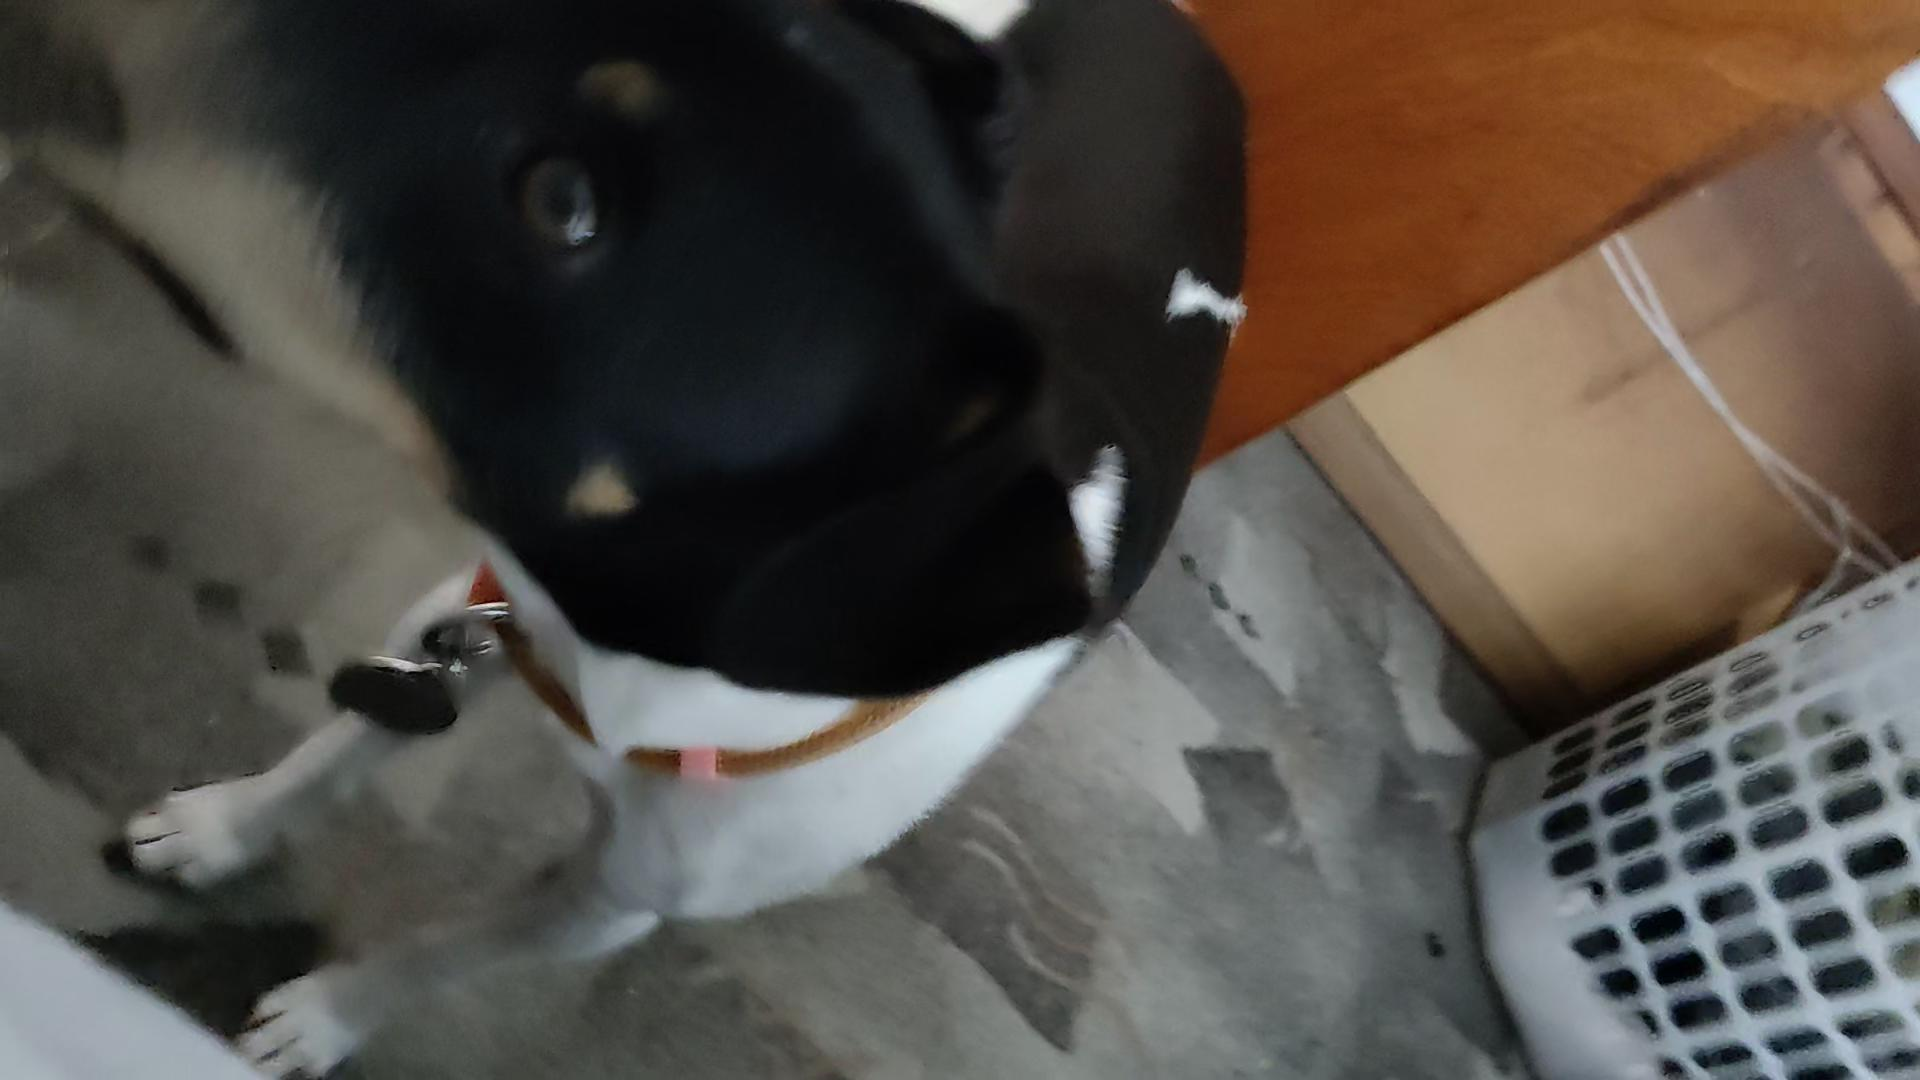Dog: (0, 0, 1267, 1080)
